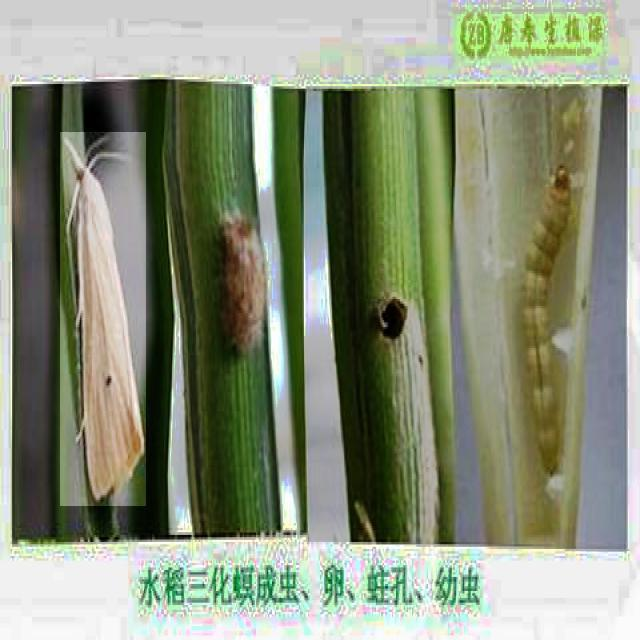stem-borer: (60, 133, 146, 507)
